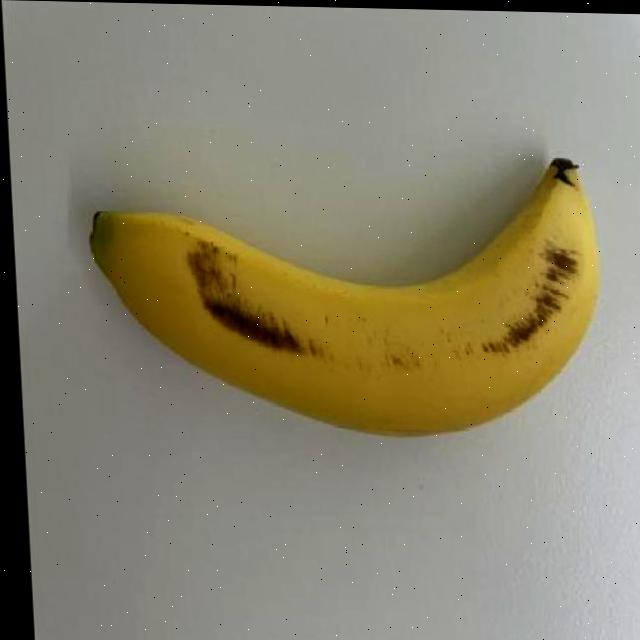banana: (78, 140, 614, 452)
